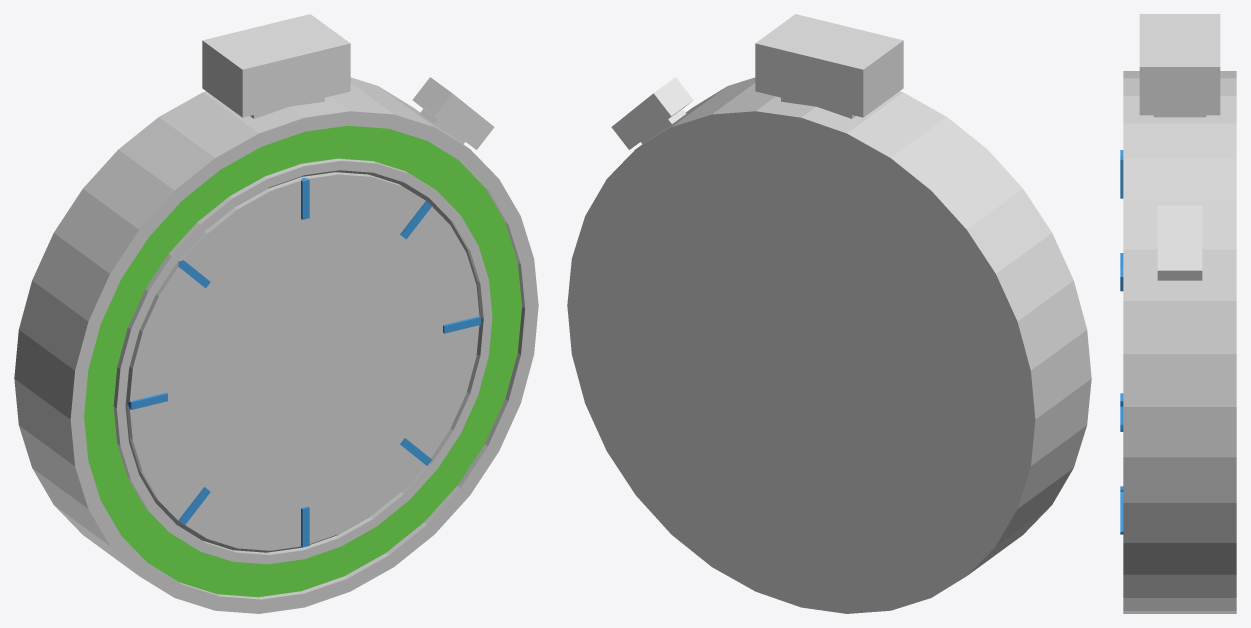
The model's file is TimerBonus.fbx.
3 views of the same model, side by side, from view 1: azimuth 30°, elevation 25°; view 2: azimuth 150°, elevation 25°; view 3: azimuth 270°, elevation 25° (orthographic).
Visible parts, largest first — view 1: Cylinder, ButtonTop, ButtonTop.001; view 2: Cylinder, ButtonTop, ButtonTop.001; view 3: Cylinder, ButtonTop, ButtonTop.001.
Boxes of the visible parts, x1,y1,x2,y2 form: Cylinder: [14, 77, 538, 613]; ButtonTop: [202, 14, 350, 118]; ButtonTop.001: [412, 77, 494, 149]; Cylinder: [567, 77, 1091, 613]; ButtonTop: [755, 14, 903, 118]; ButtonTop.001: [611, 77, 693, 149]; Cylinder: [1120, 71, 1236, 613]; ButtonTop: [1139, 14, 1220, 117]; ButtonTop.001: [1157, 205, 1202, 280].
Bounding box in the file's own units: 120 × 134 × 25.67.
